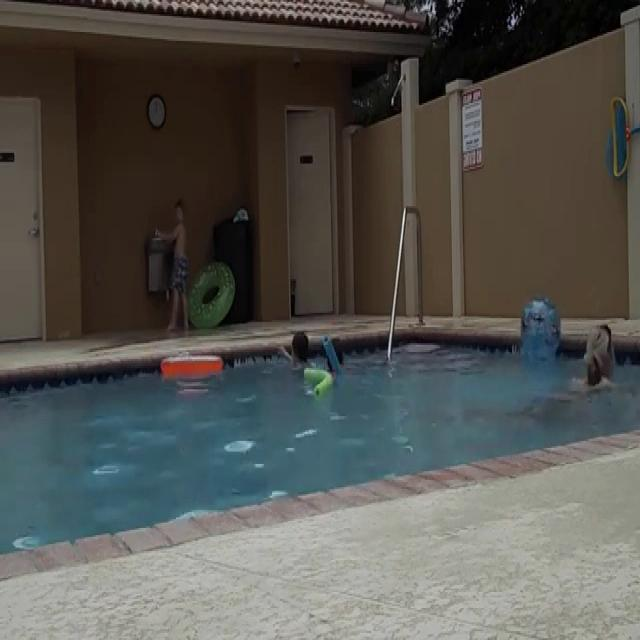adult: (567, 322, 631, 413)
child: (160, 195, 188, 333), (278, 328, 310, 383), (326, 334, 345, 384)
